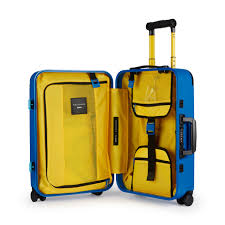suitcase: (25, 19, 199, 209)
